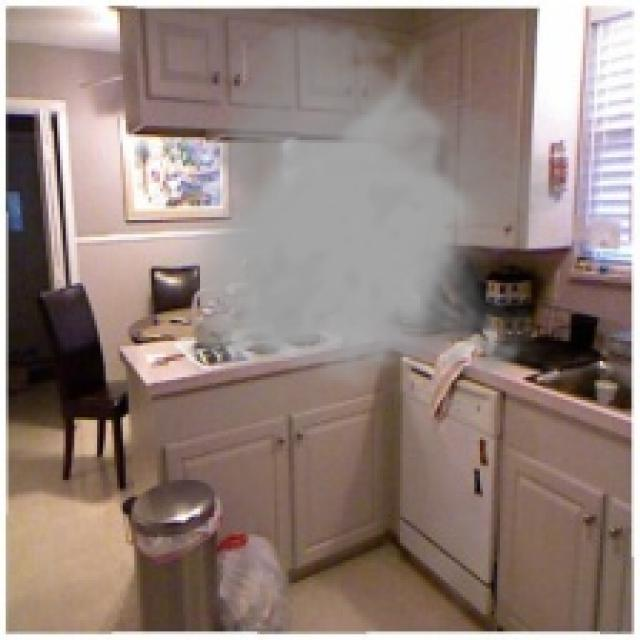smoke: (174, 17, 566, 392)
